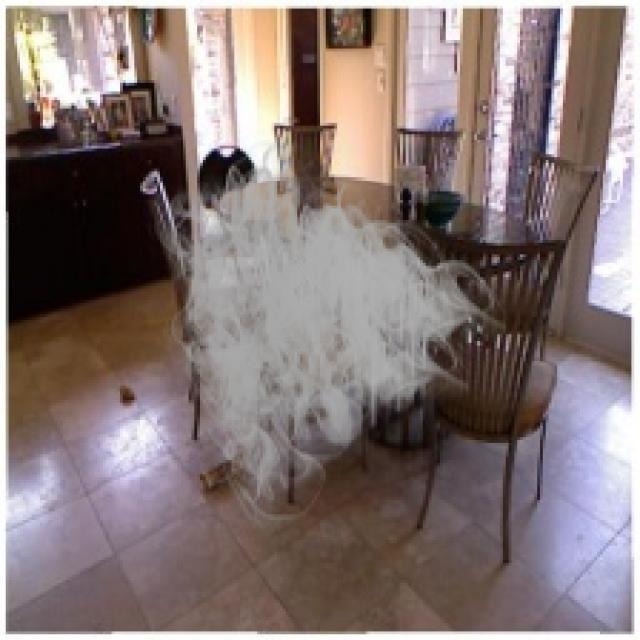Smoke: (145, 128, 506, 538)
